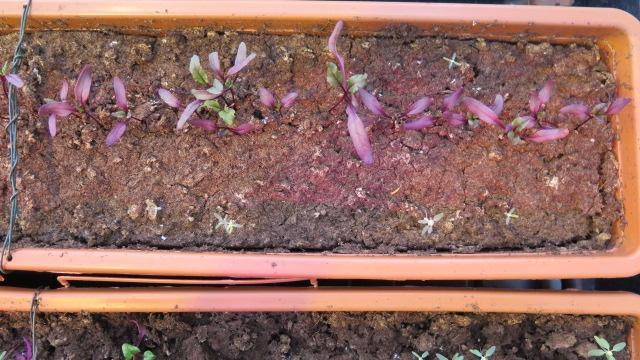weed: (437, 50, 462, 69), (500, 205, 519, 224)
